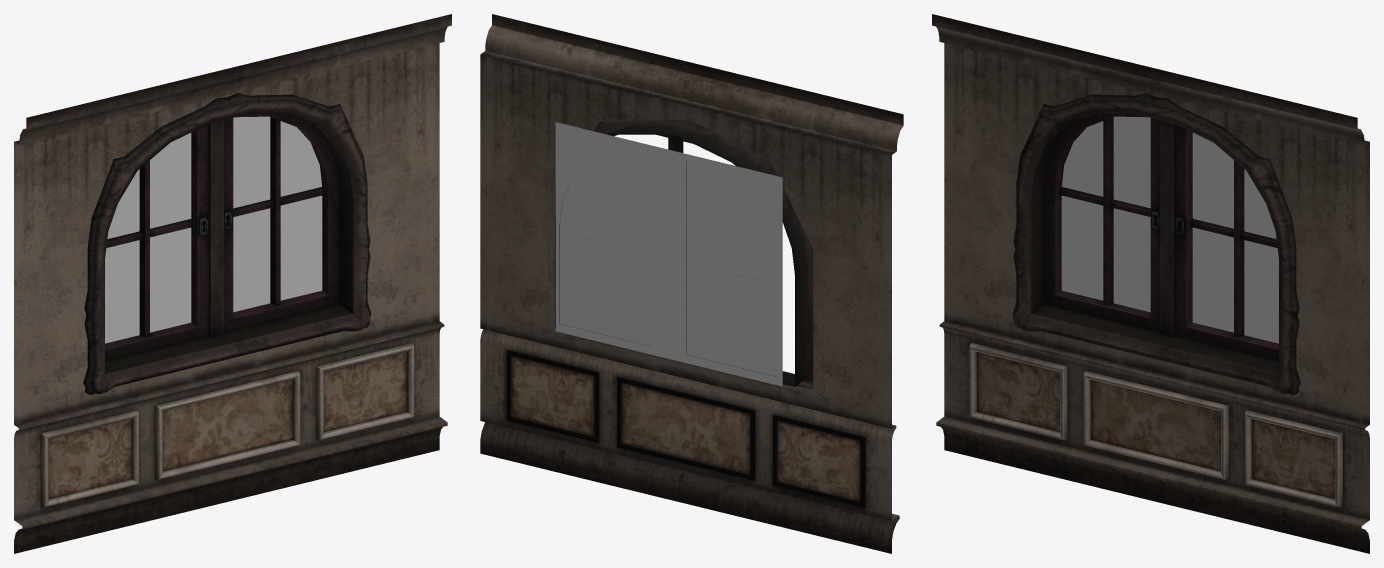
Rendered from 42_window03_blue.dae.
The picture shows the model from 3 angles, left to right: view 1: azimuth 30°, elevation 25°; view 2: azimuth 150°, elevation 25°; view 3: azimuth 330°, elevation 25°; orthographic projection. The views are drawn at different scales.
Visible parts, largest first — view 1: window03, window03_frame, window03_glass; view 2: window03, window03_glass, window03_frame; view 3: window03, window03_frame, window03_glass.
Part boxes in pixels (x1=…): window03: x1=14, y1=14, x2=451, y2=553; window03_frame: x1=83, y1=93, x2=371, y2=394; window03_glass: x1=105, y1=116, x2=322, y2=343; window03: x1=480, y1=14, x2=903, y2=553; window03_glass: x1=555, y1=122, x2=782, y2=386; window03_frame: x1=547, y1=109, x2=824, y2=399; window03: x1=932, y1=14, x2=1369, y2=553; window03_frame: x1=1012, y1=93, x2=1300, y2=394; window03_glass: x1=1061, y1=116, x2=1278, y2=343.
Bounding box in the file's own units: 4 × 4 × 0.488.
